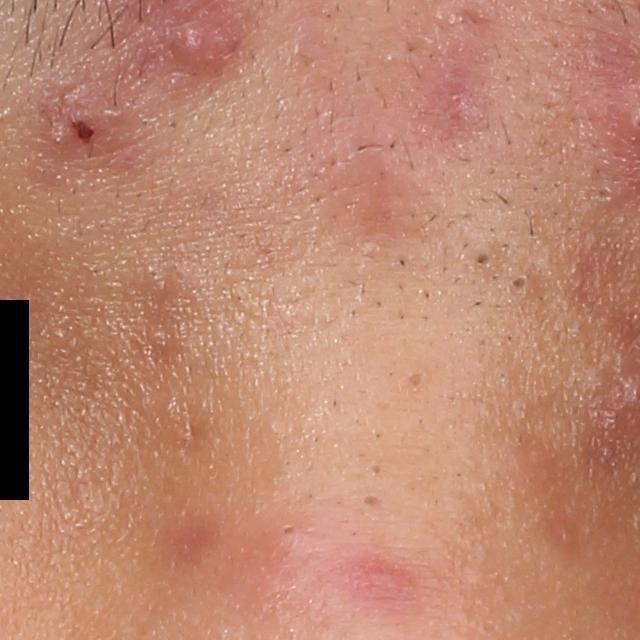comedo: (356, 489, 388, 515), (468, 245, 497, 273), (402, 365, 425, 392), (508, 271, 532, 292), (367, 458, 389, 478)
papule: (40, 83, 114, 150), (258, 508, 324, 568), (166, 12, 219, 68)
